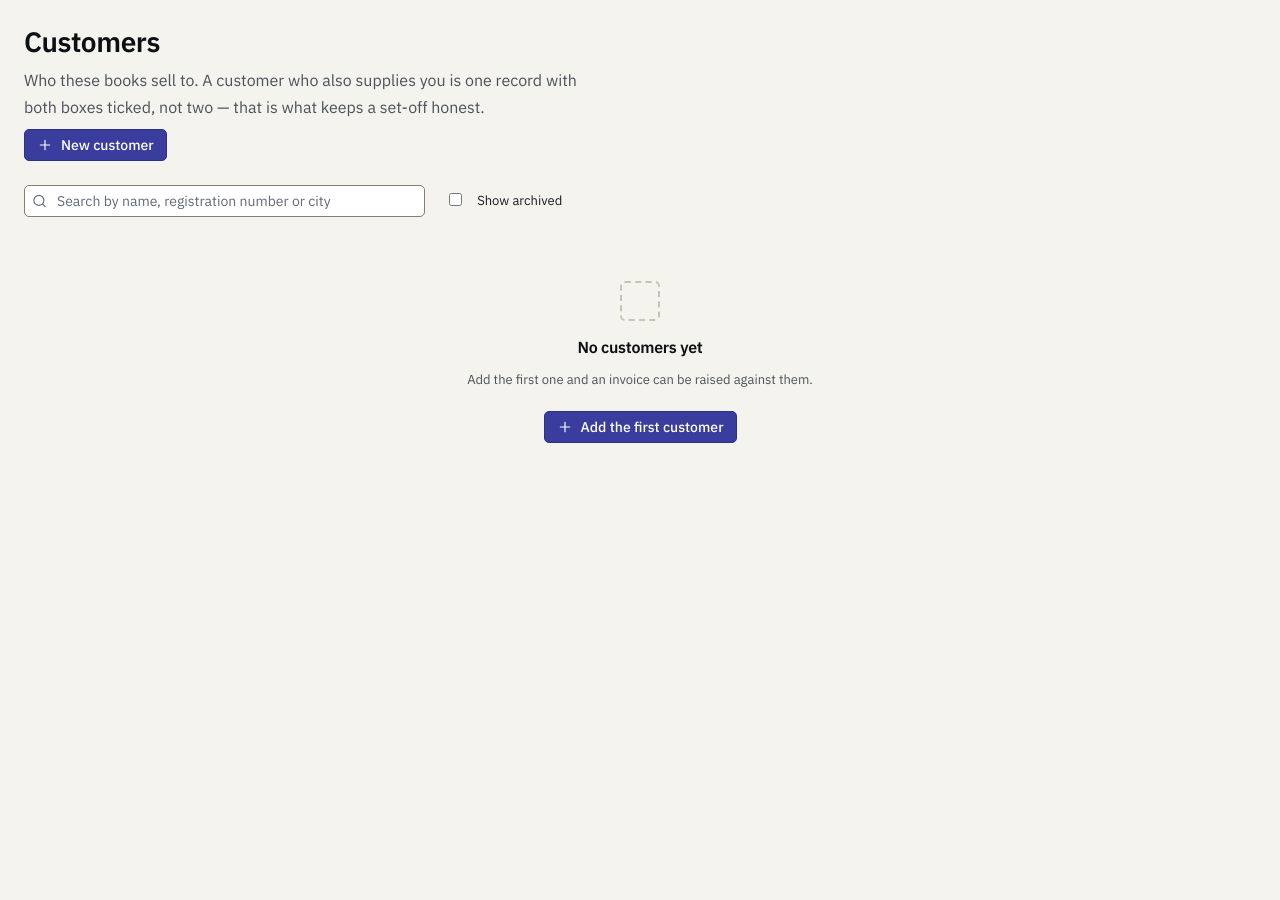
Test: adding › sends a state and a number that disagree, and shows the refusal
This screenshot has width=1280, height=900.
Expected: the heading "No customers yet" is shown, [577,337,703,357]
Click the button "New customer": (95, 145) [24,129,167,161]
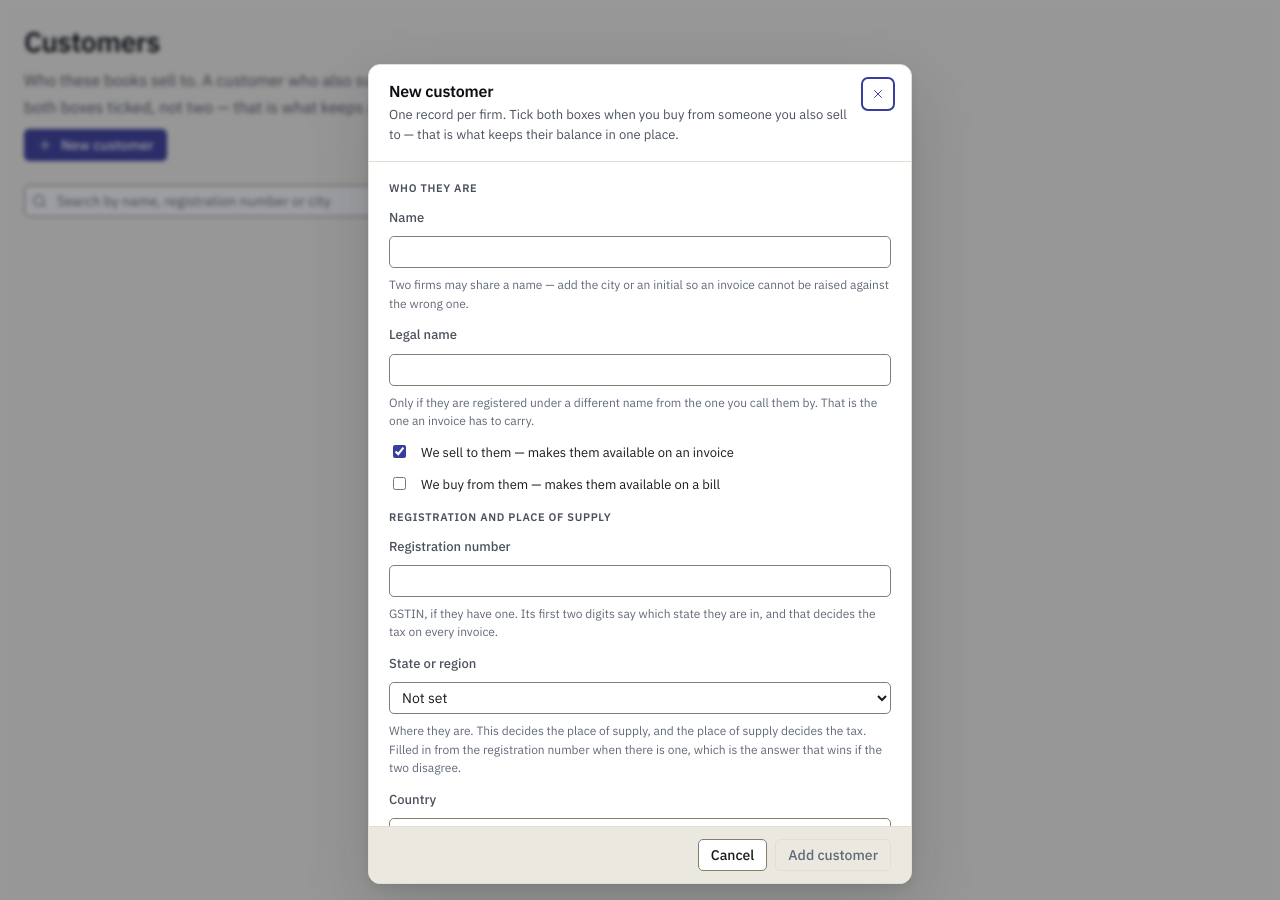
In the field labelled "Name": (640, 252) [389,236,891,268], type "Bharat Steel"
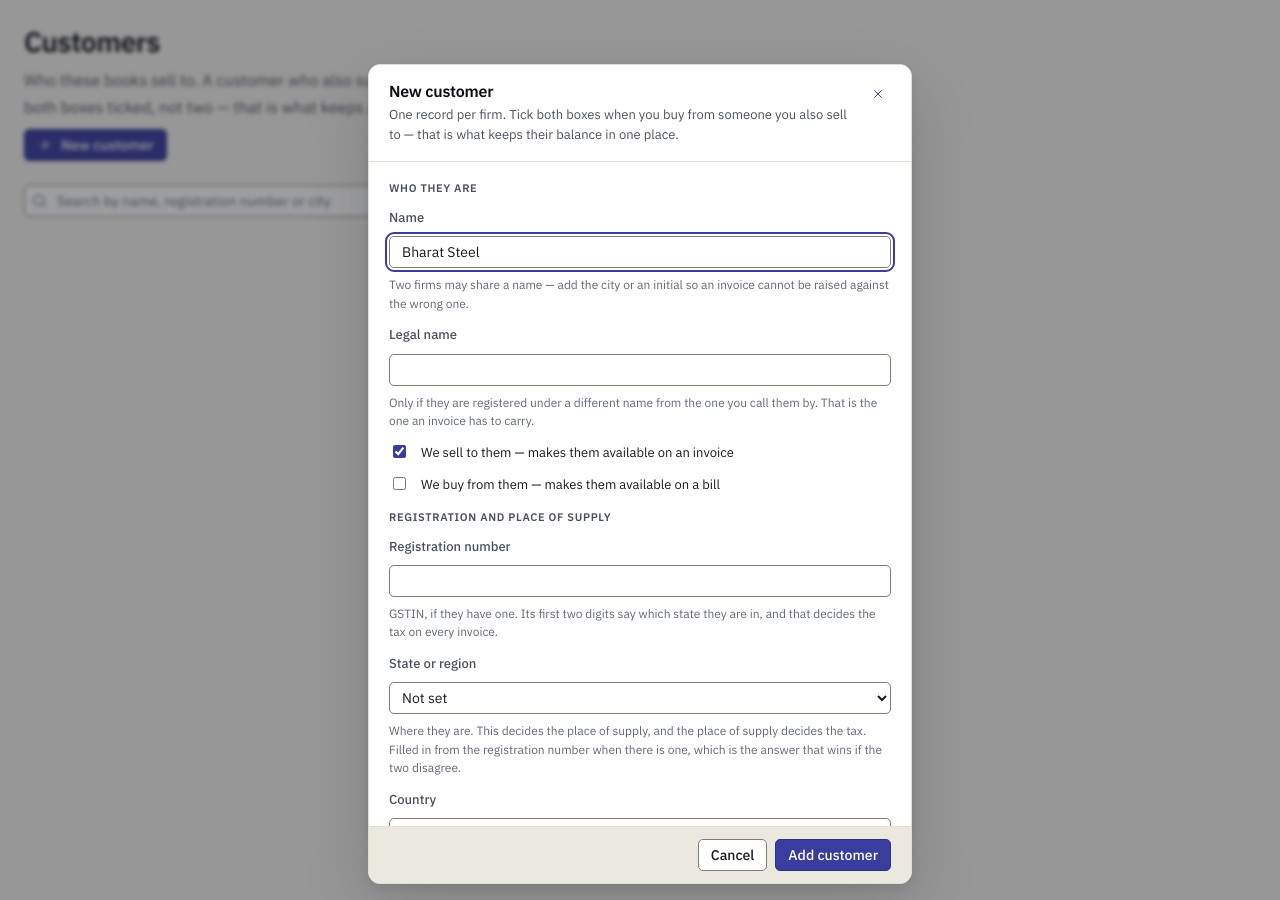
In the field labelled "Registration number": (640, 581) [389,565,891,597], type "33AABCC1234D1ZI"
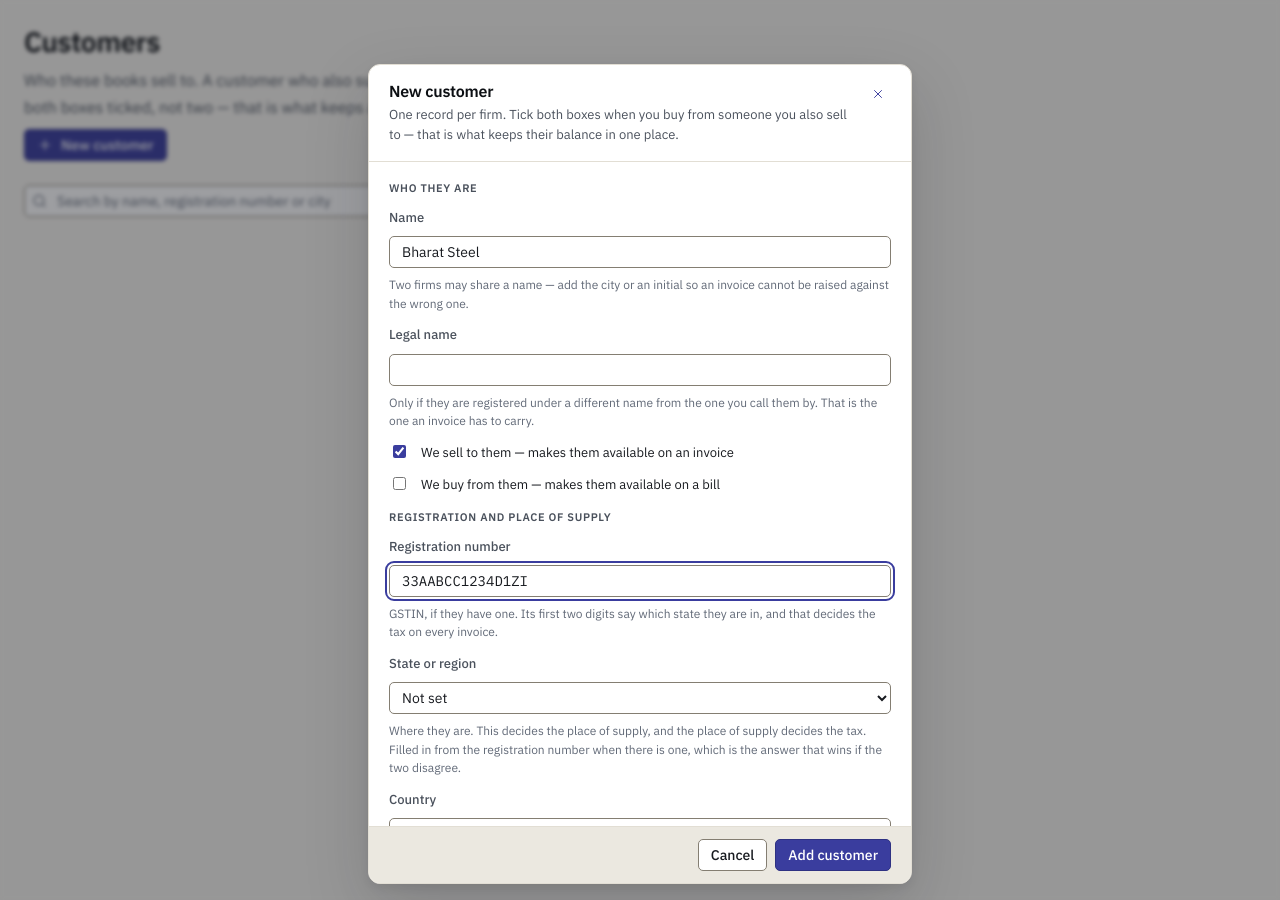
Select "Karnataka" in the dropdown labelled "State or region": (640, 698) [389,682,891,714]
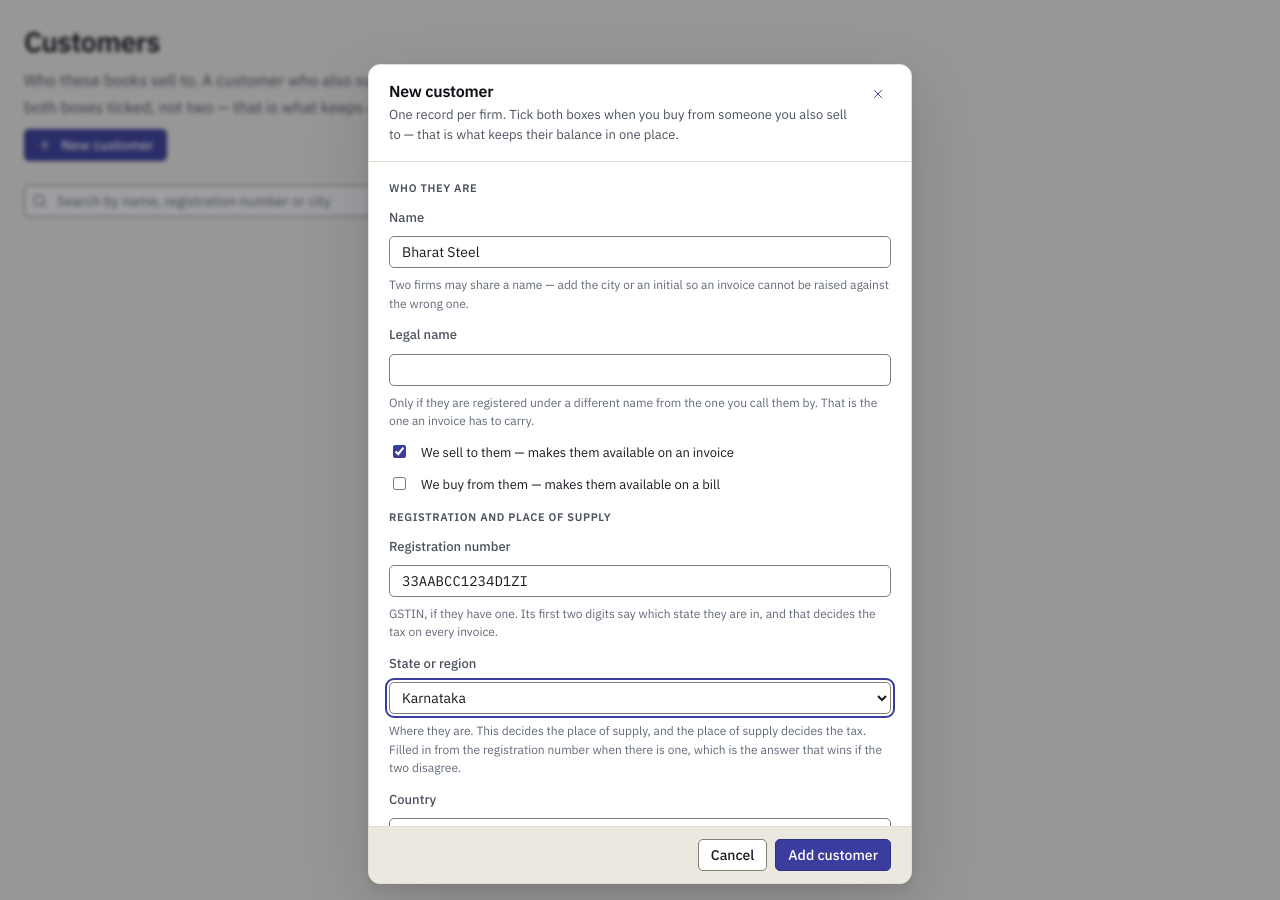
Click the button "Add customer": (833, 855) [775,839,891,871]
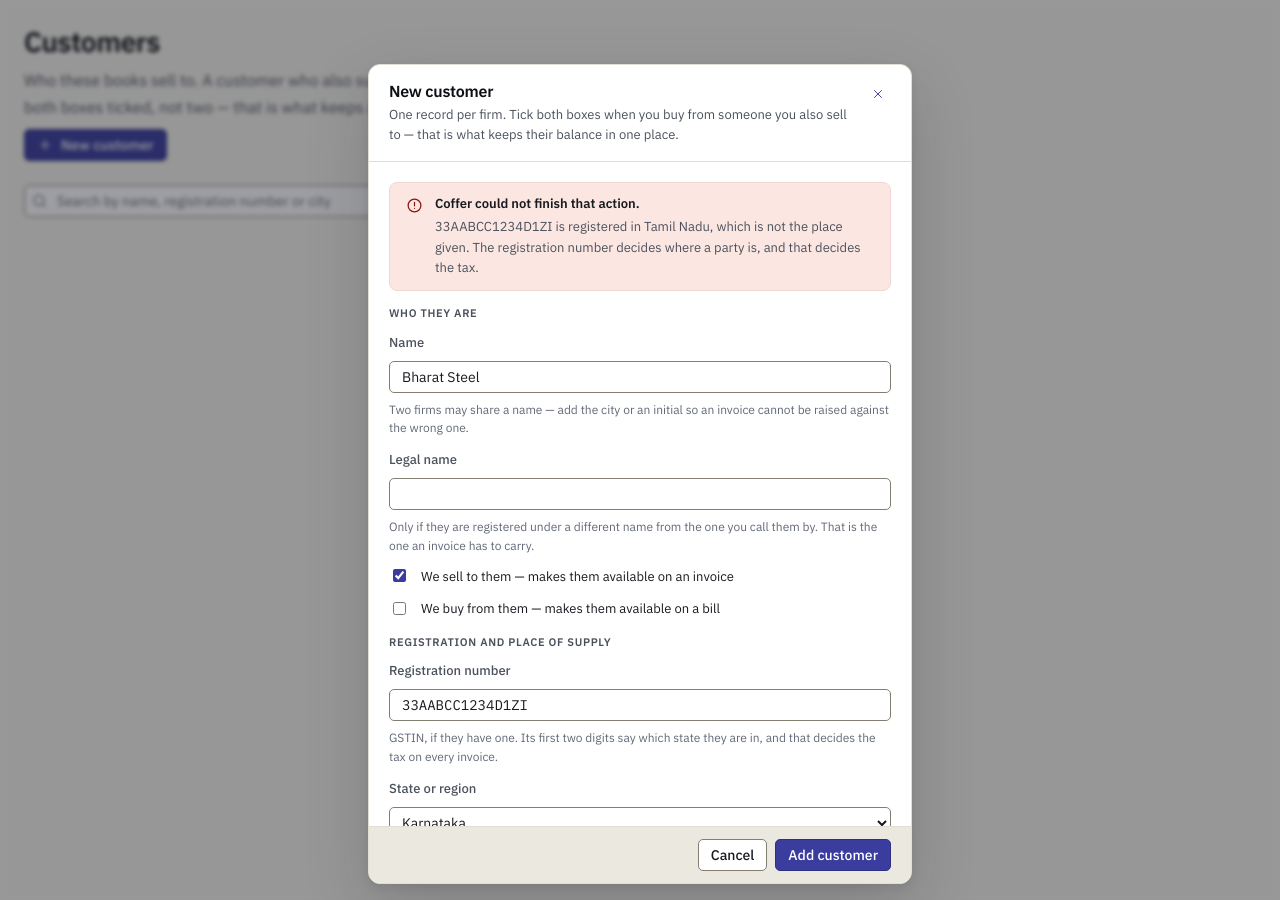
Now the text "The registration number decides where a party is" is shown, box [435,218,861,276]
